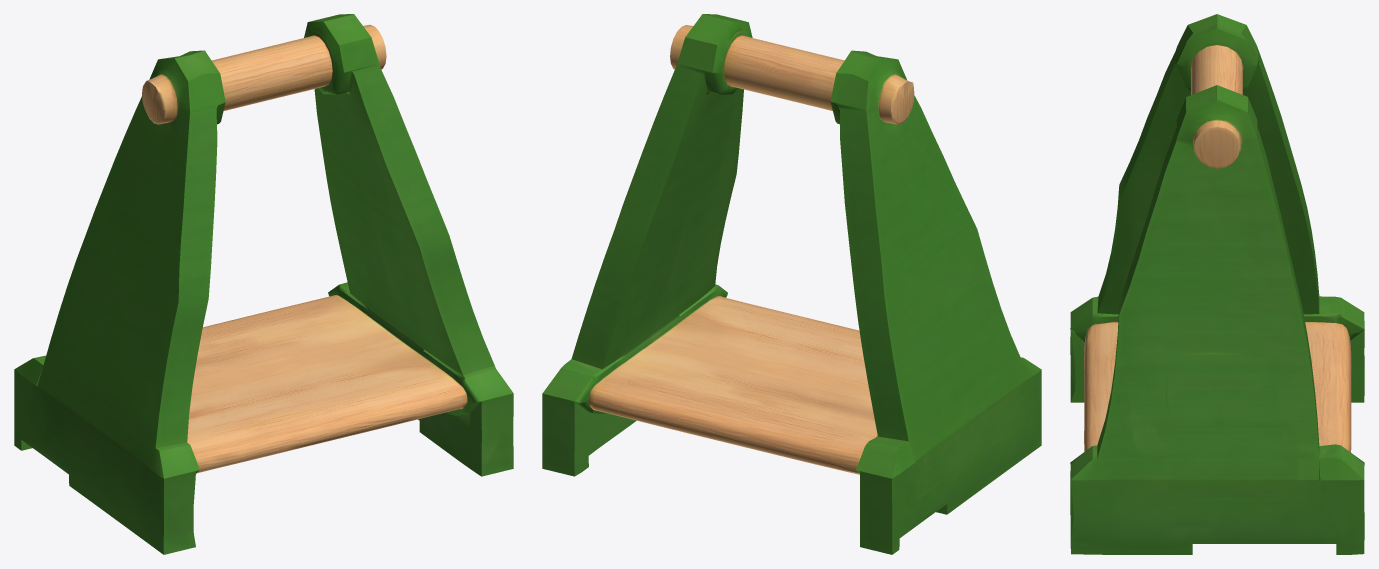
The model's file is base_basic_pbr.fbx.
3 renders of one model, left to right at view 1: azimuth 30°, elevation 25°; view 2: azimuth 150°, elevation 25°; view 3: azimuth 270°, elevation 25°, orthographic.
Parts seen in each view (by area): view 1: model; view 2: model; view 3: model.
Part boxes in pixels (left/top/right/bottom): model: left=14, top=14, right=513, bottom=554; model: left=542, top=14, right=1041, bottom=554; model: left=1070, top=14, right=1364, bottom=554.
Size of the model in its own units: 161 by 184 by 118.
1 material, 1 textured.
